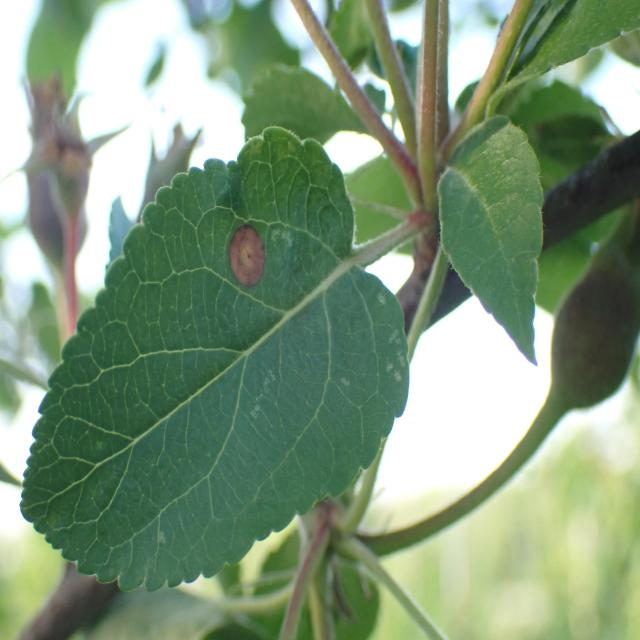Black Rot: (209, 205, 274, 296)
